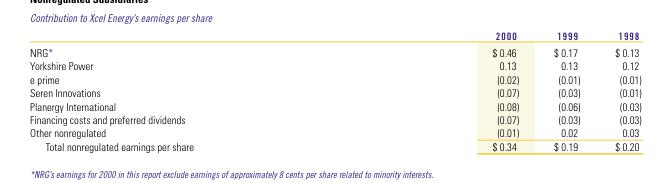table: (29, 28, 640, 152)
table column: (29, 28, 342, 152), (342, 28, 535, 152), (535, 28, 596, 152), (596, 28, 640, 152)
table column header: (29, 28, 640, 43)
table row: (29, 28, 640, 43), (29, 43, 640, 58), (29, 58, 640, 72), (29, 85, 640, 99), (29, 125, 640, 139), (29, 72, 640, 85), (29, 99, 640, 112), (29, 112, 640, 125), (29, 139, 640, 152)
